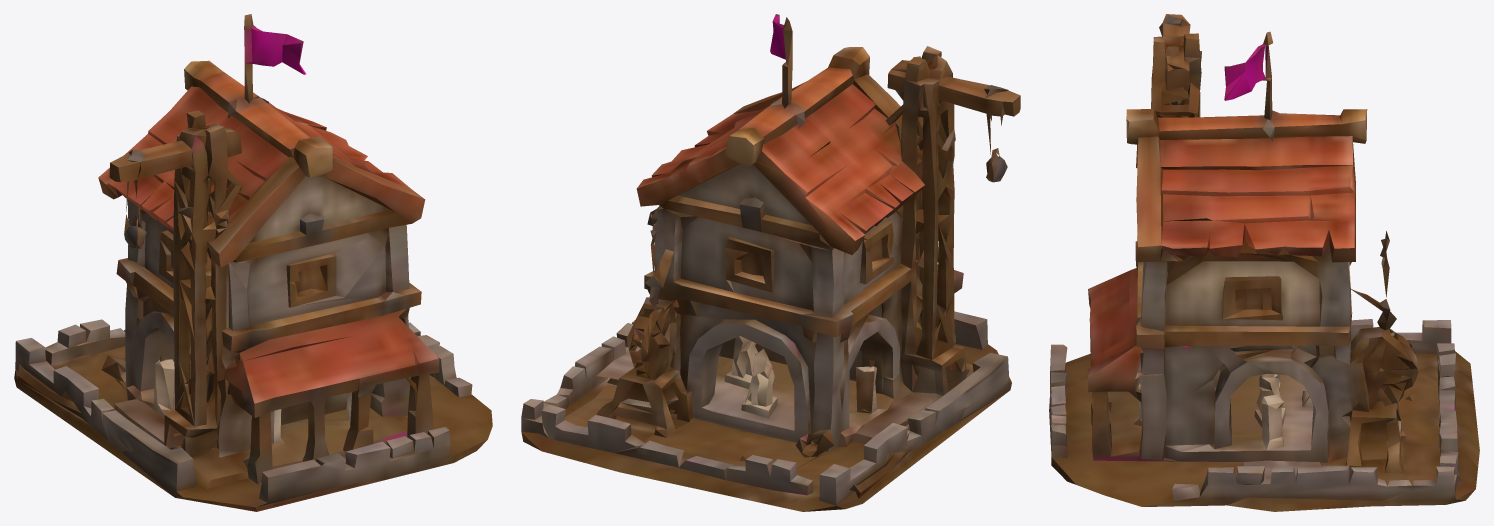
File: stonemason2.lod2.glb
The picture shows the model from 3 angles, left to right: view 1: azimuth 30°, elevation 25°; view 2: azimuth 150°, elevation 25°; view 3: azimuth 270°, elevation 25°; orthographic projection.
Parts seen in each view (by area): view 1: stonemason2.lod2_uv; view 2: stonemason2.lod2_uv; view 3: stonemason2.lod2_uv.
Part boxes in pixels (x1=…): stonemason2.lod2_uv: x1=14, y1=14, x2=492, y2=511; stonemason2.lod2_uv: x1=521, y1=14, x2=1020, y2=511; stonemason2.lod2_uv: x1=1049, y1=14, x2=1479, y2=511.
Bounding box in the file's own units: 1.87 × 1.89 × 1.9.
Materials: 1 (1 with a texture image).
